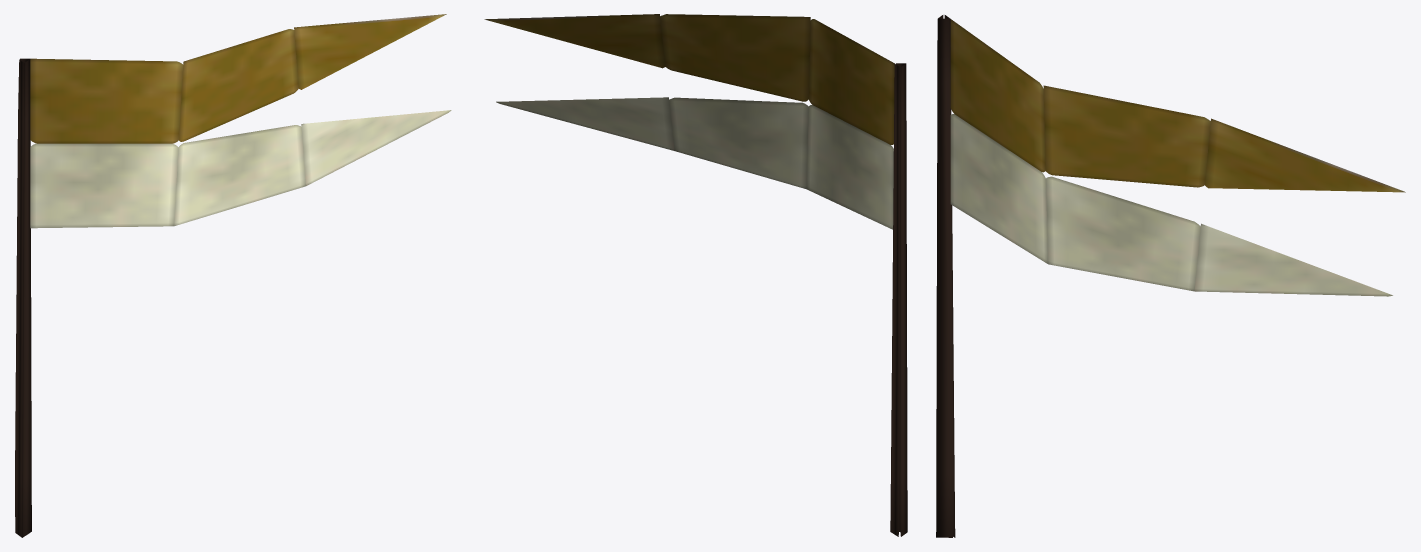
3 renders of one model, left to right at view 1: azimuth 30°, elevation 25°; view 2: azimuth 150°, elevation 25°; view 3: azimuth 330°, elevation 25°, orthographic. The views are drawn at different scales.
Parts seen in each view (by area): view 1: T1L9M006_22; view 2: T1L9M006_22; view 3: T1L9M006_22.
Part boxes in pixels (x1,y1,x2,y2): T1L9M006_22: [15, 14, 451, 537]; T1L9M006_22: [484, 14, 907, 536]; T1L9M006_22: [936, 15, 1405, 537].
Bounding box in the file's own units: 1.73 × 1.83 × 0.2752.
